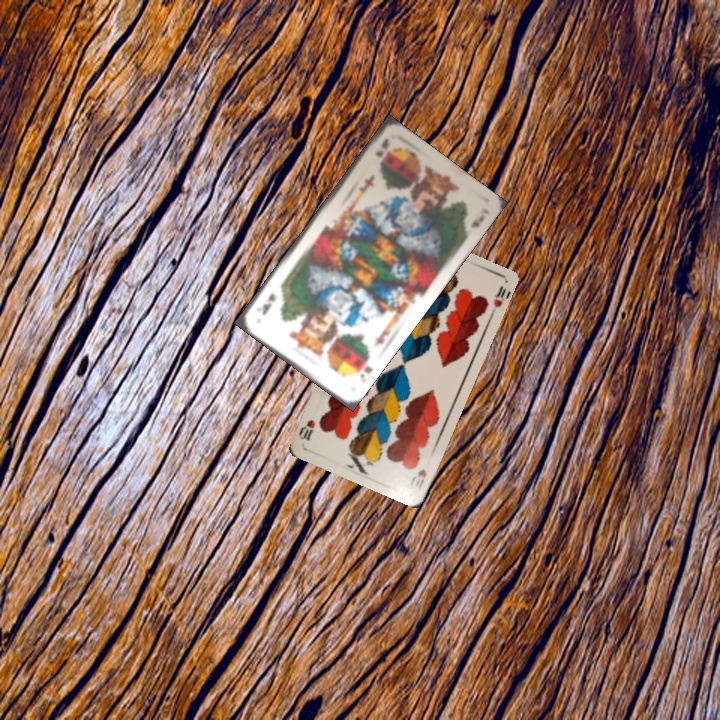H10: (406, 465, 429, 493)
SK: (356, 353, 375, 385), (372, 134, 392, 160)
